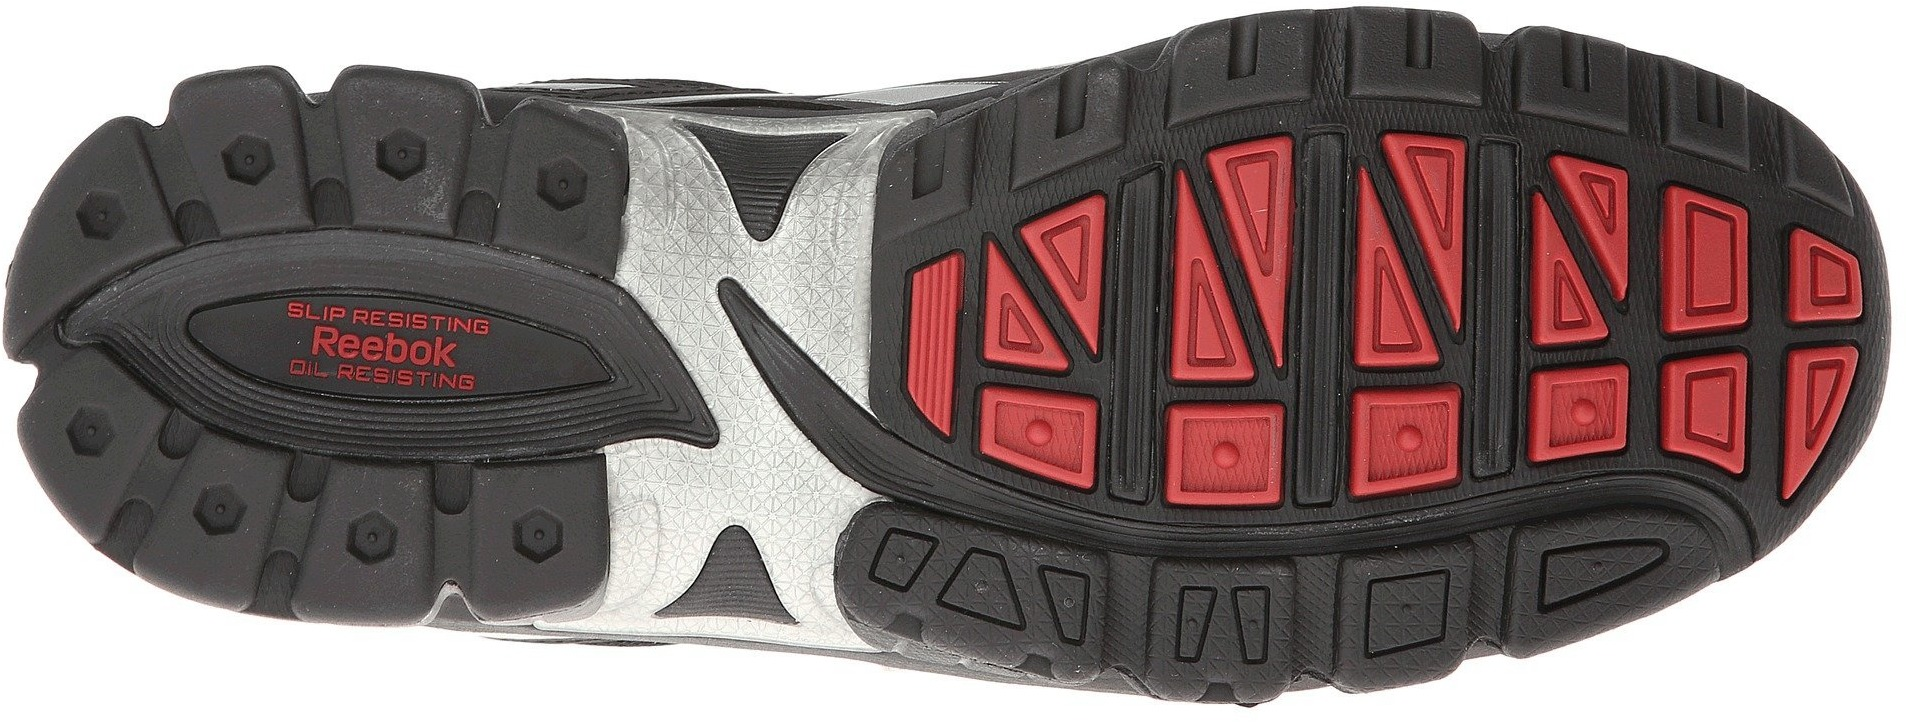polygon: (332, 500, 411, 580), (521, 150, 597, 220), (363, 119, 438, 190)
quad: (1639, 188, 1871, 442), (1141, 549, 1298, 701), (1331, 541, 1479, 683), (1157, 397, 1299, 511), (1344, 378, 1466, 501)
ribbon: (600, 248, 874, 511), (39, 229, 215, 390)
text: (256, 246, 506, 463)
triangle: (1162, 113, 1474, 396), (955, 182, 1132, 378)
